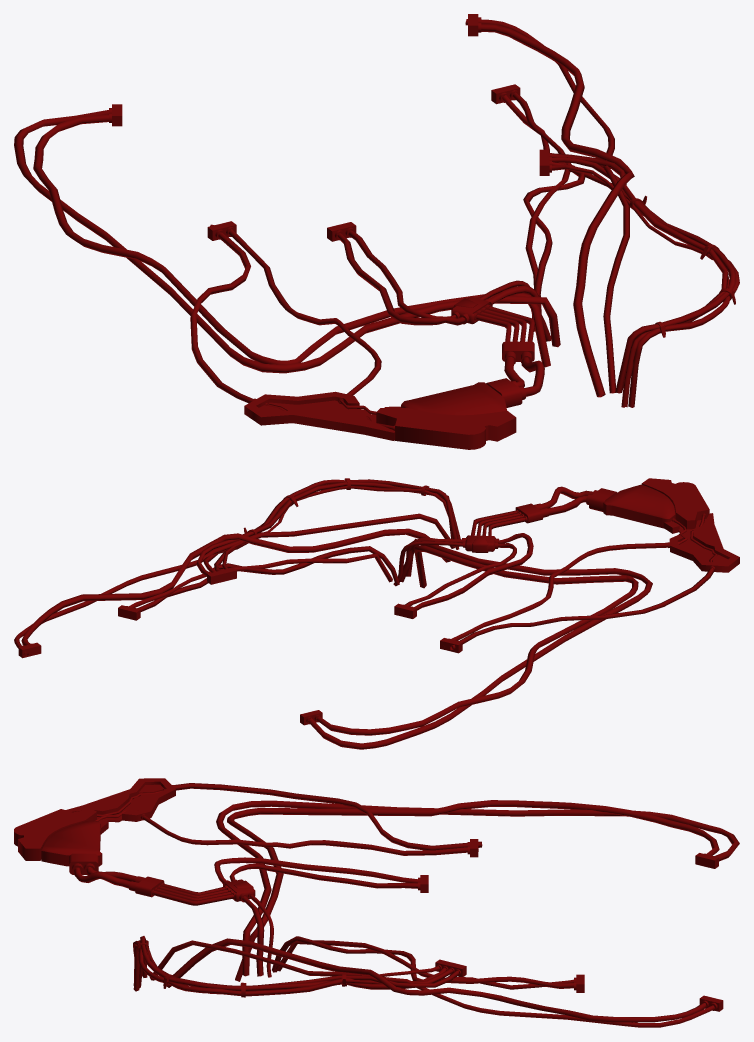
Rendered from Cable_Details_01.FBX.
3 views of the same model, one above another, from view 1: azimuth 30°, elevation 25°; view 2: azimuth 150°, elevation 25°; view 3: azimuth 270°, elevation 25° (orthographic). The views are drawn at different scales.
Visible parts, largest first — view 1: Cable_Details_01; view 2: Cable_Details_01; view 3: Cable_Details_01.
Boxes of the visible parts, x1,y1,x2,y2 form: Cable_Details_01: (14, 14, 739, 449); Cable_Details_01: (14, 478, 739, 749); Cable_Details_01: (14, 778, 739, 1027).
Bounding box in the file's own units: 112 × 16.48 × 143.
